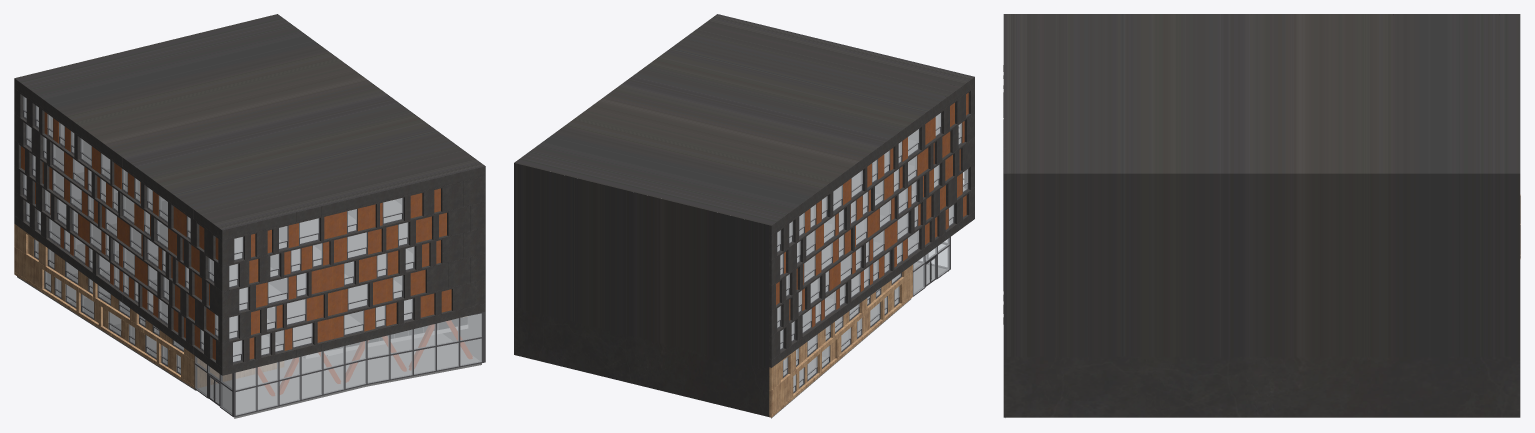
Rendered from building.glb.
The picture shows the model from 3 angles, left to right: view 1: azimuth 30°, elevation 25°; view 2: azimuth 150°, elevation 25°; view 3: azimuth 270°, elevation 25°; orthographic projection. The views are drawn at different scales.
Visible parts, largest first — view 1: AE35_010_building_A_walls, AE35_010_building_A_black, AE35_010_building_A_corten_steel, AE35_010_building_A_carpets, AE35_010_building_A_wood_A, AE35_010_building_A_walls_interior, AE35_010_building_A_orange_pillars, AE35_010_window_CF_034, AE35_010_window_CF_036, AE35_010_window_CF_038, AE35_010_window_CF_032, AE35_010_window_CF_037 (+20 smaller); view 2: AE35_010_building_A_walls, AE35_010_building_A_black, AE35_010_building_A_corten_steel, AE35_010_building_A_wood_A, AE35_010_building_A_carpets, AE35_010_building_A_walls_interior; view 3: AE35_010_building_A_walls.
Part boxes in pixels (x1,y1,x2,y2): AE35_010_building_A_walls: (15, 14, 485, 361); AE35_010_building_A_black: (14, 78, 485, 375); AE35_010_building_A_corten_steel: (21, 112, 451, 360); AE35_010_building_A_carpets: (17, 110, 481, 418); AE35_010_building_A_wood_A: (14, 224, 283, 388); AE35_010_building_A_walls_interior: (25, 98, 480, 371); AE35_010_building_A_orange_pillars: (254, 320, 472, 395); AE35_010_window_CF_034: (413, 346, 436, 375); AE35_010_window_CF_036: (436, 342, 459, 371); AE35_010_window_CF_038: (459, 337, 482, 367); AE35_010_window_CF_032: (390, 351, 413, 380); AE35_010_window_CF_037: (459, 312, 482, 341); AE35_010_building_A_walls: (514, 14, 974, 416); AE35_010_building_A_black: (717, 14, 974, 367); AE35_010_building_A_corten_steel: (776, 93, 968, 327); AE35_010_building_A_wood_A: (769, 264, 912, 417); AE35_010_building_A_carpets: (771, 115, 965, 418); AE35_010_building_A_walls_interior: (778, 114, 960, 390); AE35_010_building_A_walls: (1003, 14, 1520, 417).
Bounding box in the file's own units: 34.13 × 24.6 × 46.71.
Materials: 11 (7 with a texture image).
